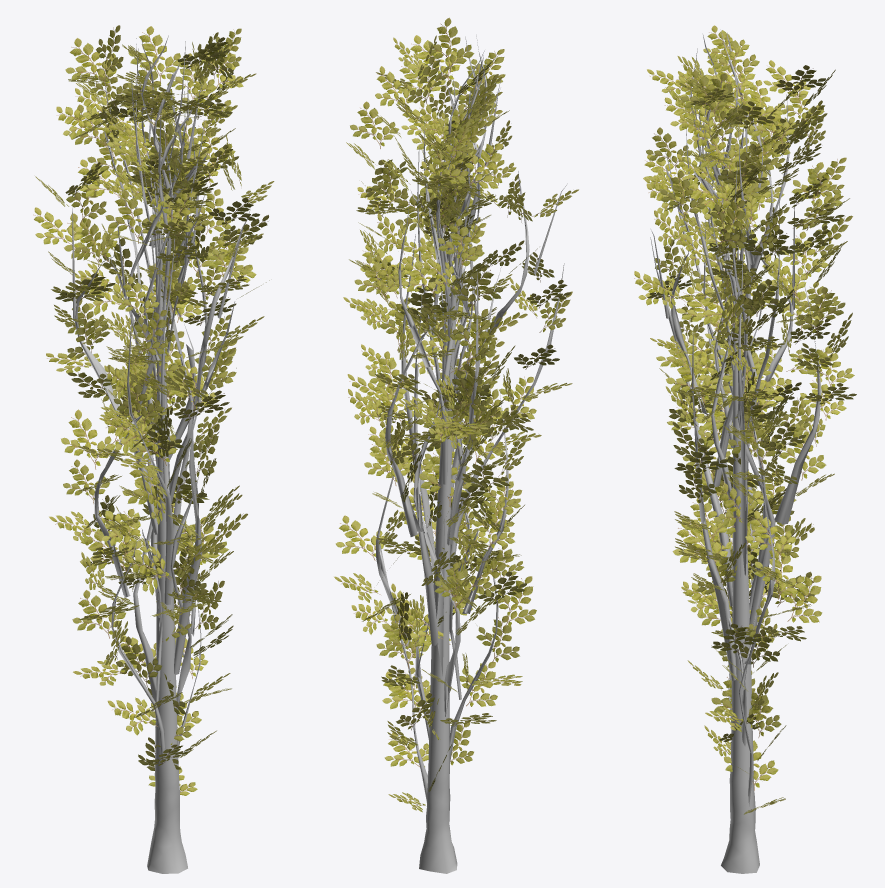
The model's file is poplar_tree0.obj.
3 renders of one model, left to right at view 1: azimuth 30°, elevation 25°; view 2: azimuth 150°, elevation 25°; view 3: azimuth 270°, elevation 25°, orthographic. The views are drawn at different scales.
Parts seen in each view (by area): view 1: leaves; view 2: leaves; view 3: leaves.
Boxes of the visible parts, x1,y1,x2,y2 form: leaves: [33, 25, 274, 873]; leaves: [334, 17, 578, 873]; leaves: [634, 25, 856, 873].
Bounding box in the file's own units: 2.98 × 11.32 × 3.11.
